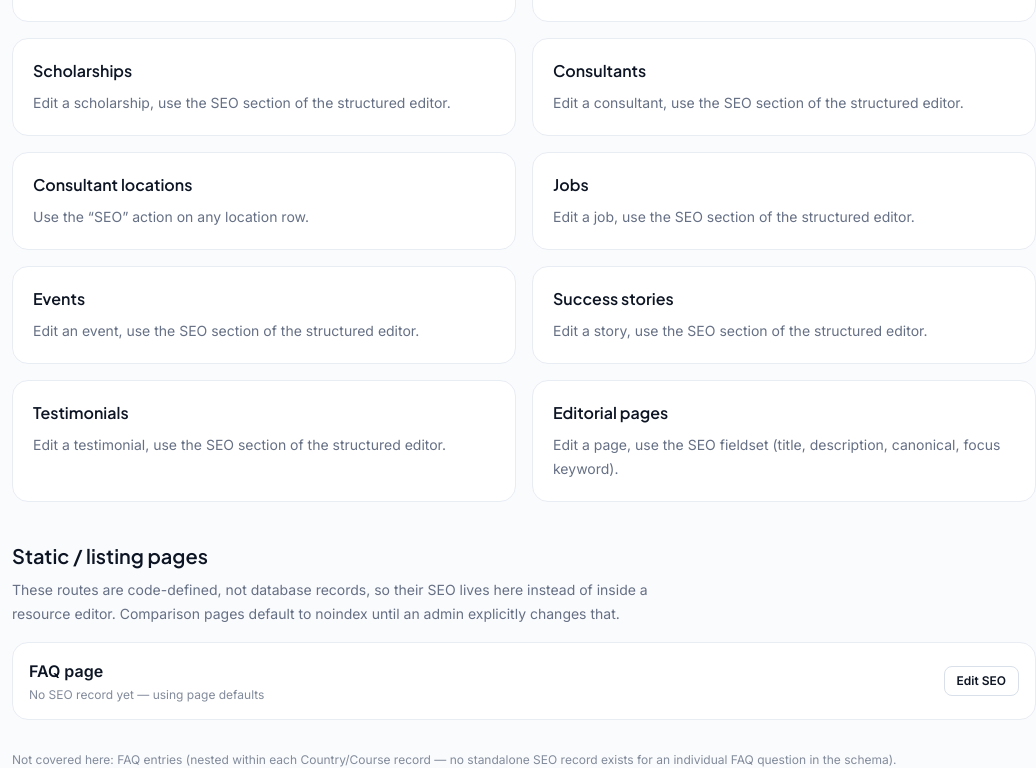
Test: SeoManagementHub static page SEO editor › still defaults to checked for a page whose default is indexable
The image size is (1036, 768).
(page scrolled)
Expected: the text "FAQ page" is shown, [29, 661, 103, 681]
Click the button "Edit SEO".
click(981, 681)  # box [944, 666, 1019, 696]
(page scrolled)
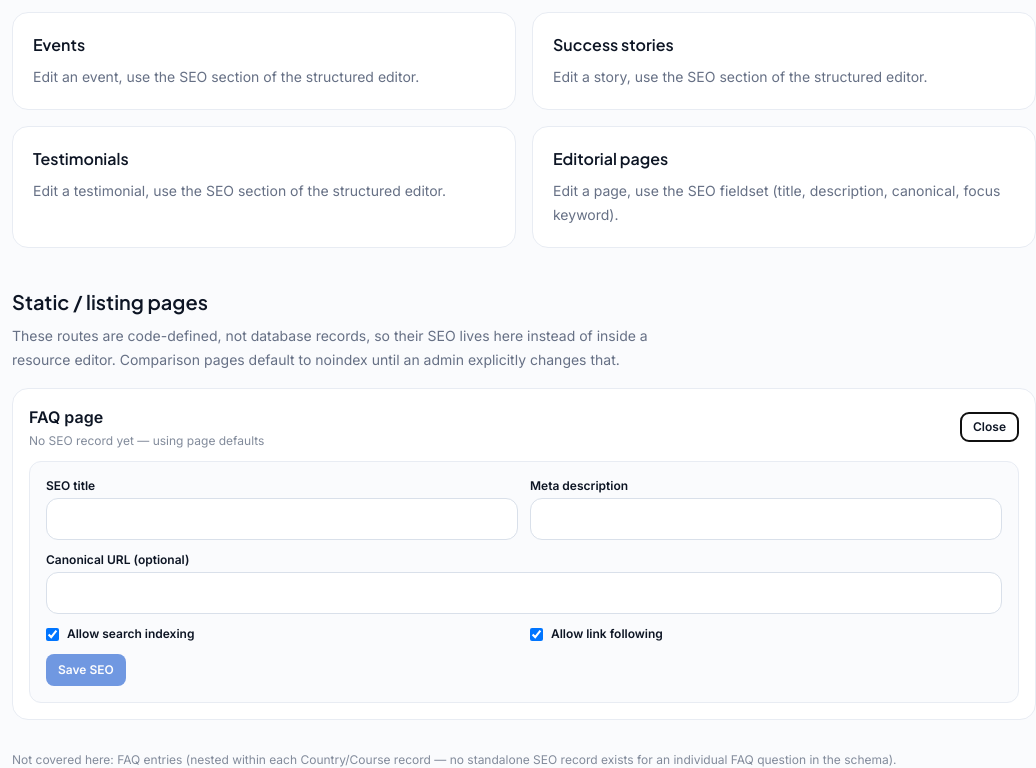
Expected: the checkbox labelled "Allow search indexing" is checked, [46, 628, 59, 640]
